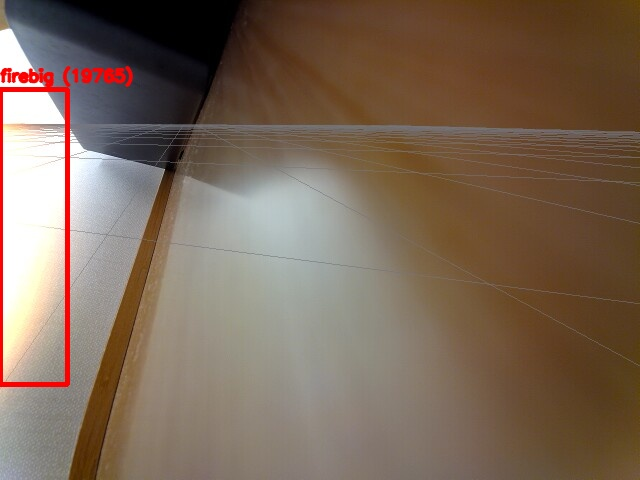firebig: (0, 89, 67, 384)
